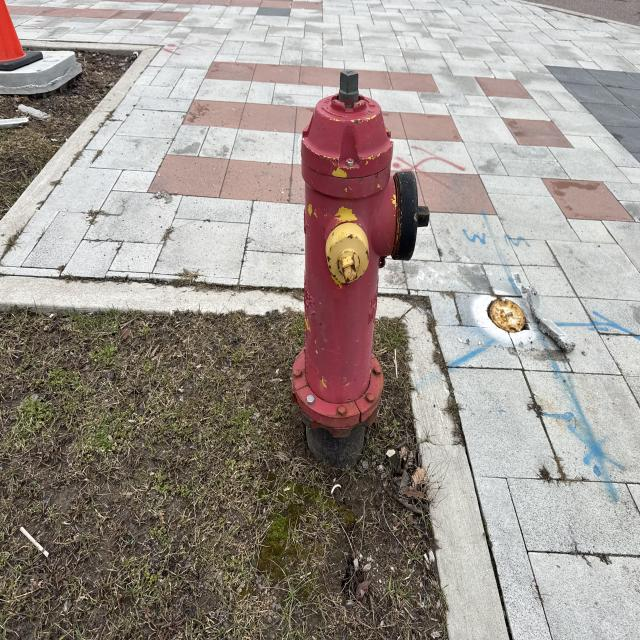Fire hydrant: (290, 70, 430, 439)
